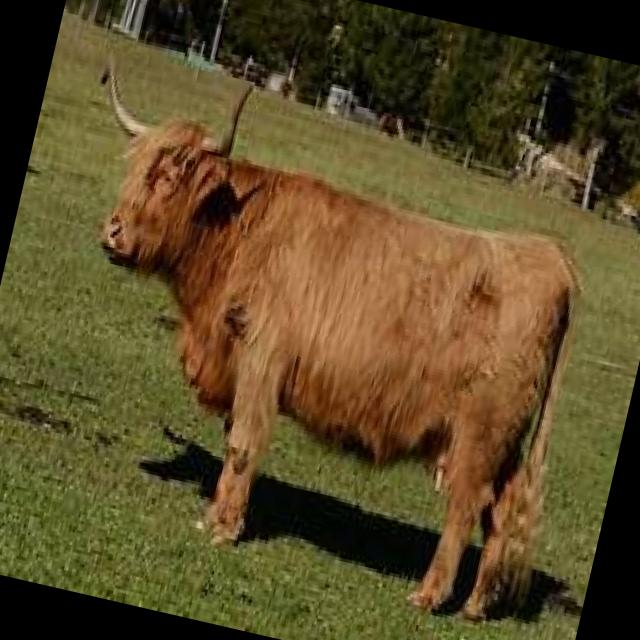animal: (0, 48, 629, 635)
